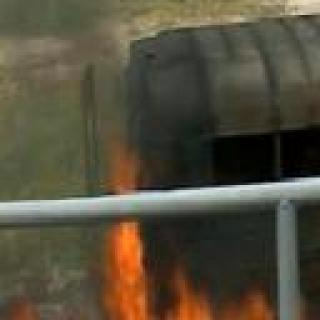fire: (104, 216, 247, 320)
